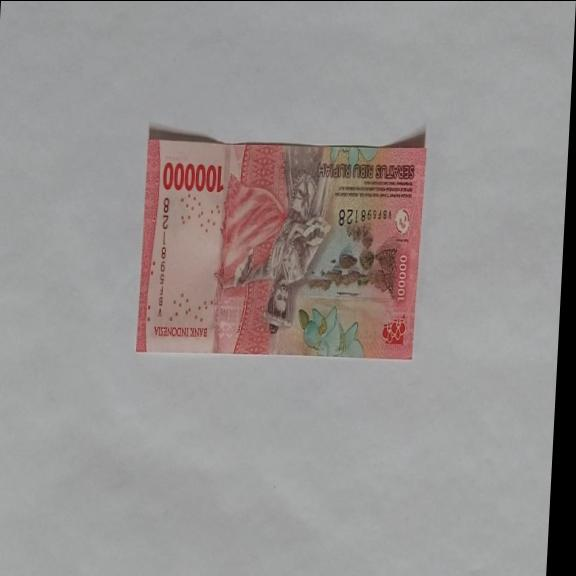Kertas: (134, 132, 427, 360), (160, 160, 225, 194)
